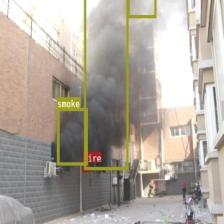fire: (83, 162, 88, 172)
smoke: (83, 0, 127, 169), (57, 108, 87, 164), (126, 0, 156, 17)
